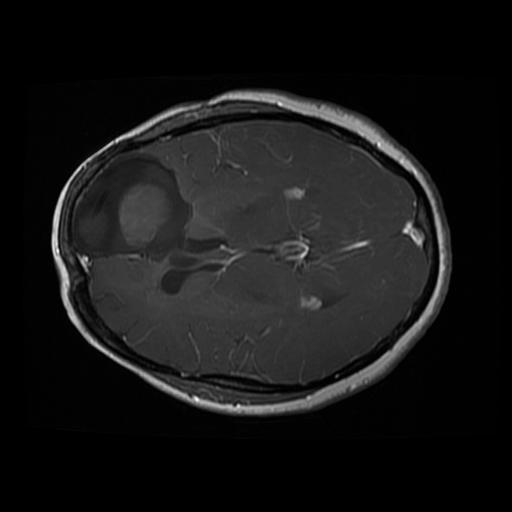glioma: (73, 153, 234, 301)
